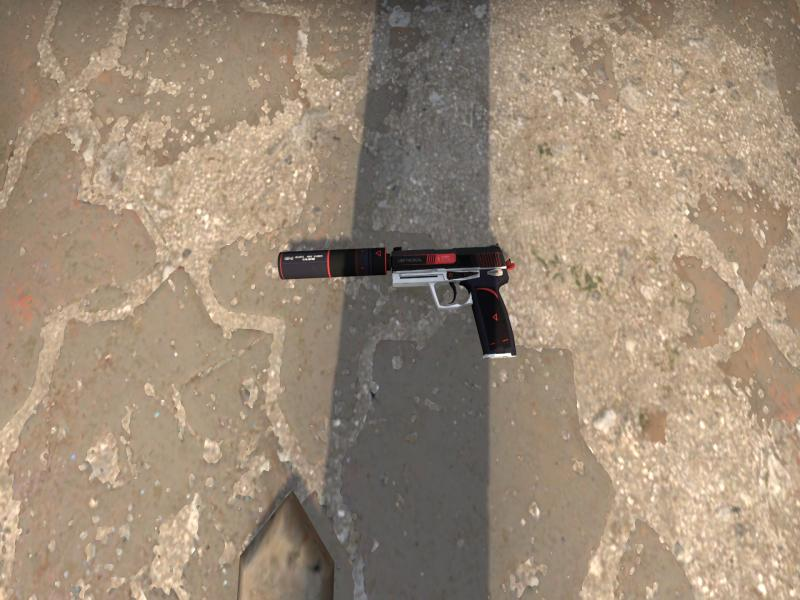USP: (278, 244, 516, 357)
